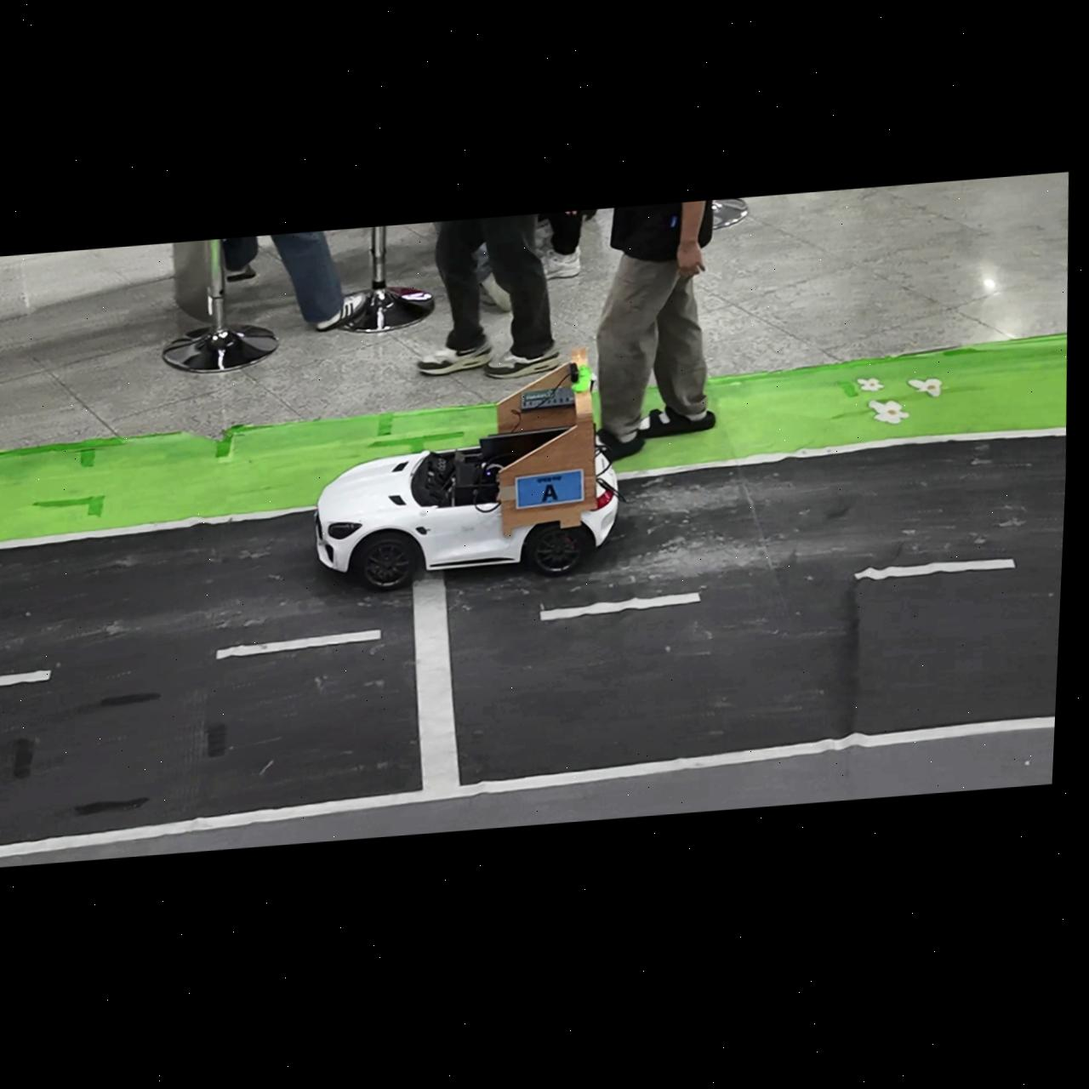broken_line: (216, 629, 381, 659), (540, 592, 700, 620), (854, 558, 1015, 579), (0, 670, 51, 686)
